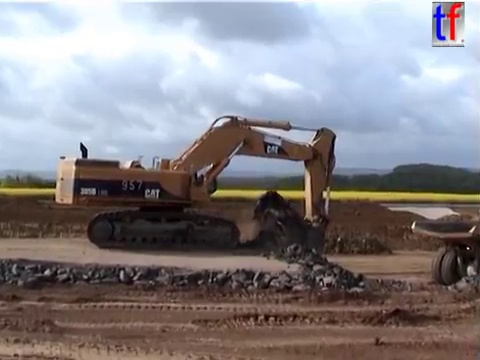excavator: (51, 112, 338, 266)
truck: (408, 215, 480, 291)
